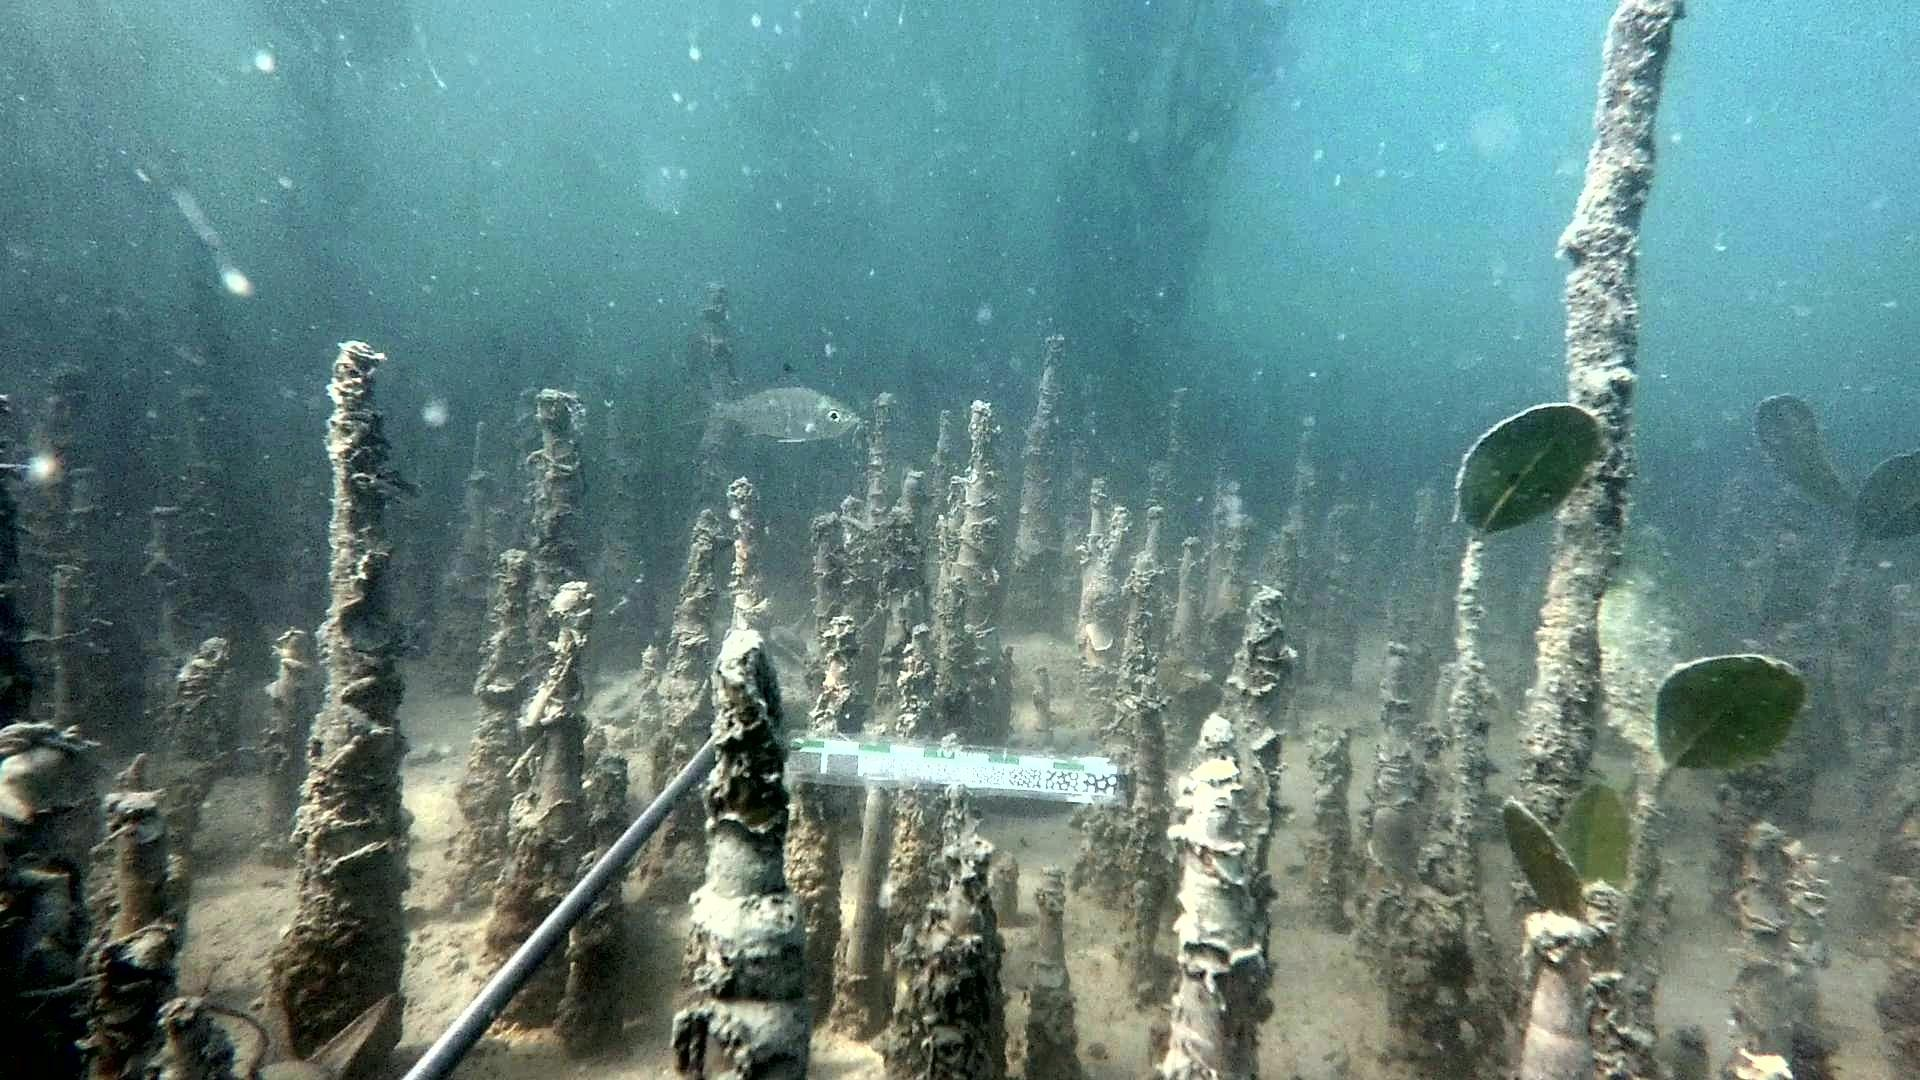gerres: (678, 361, 861, 444)
